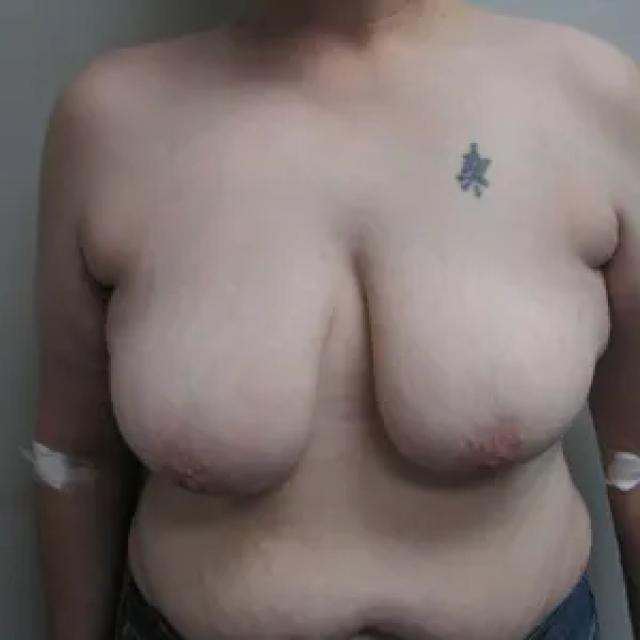Seno ileso: (348, 240, 618, 498), (98, 239, 342, 519)
